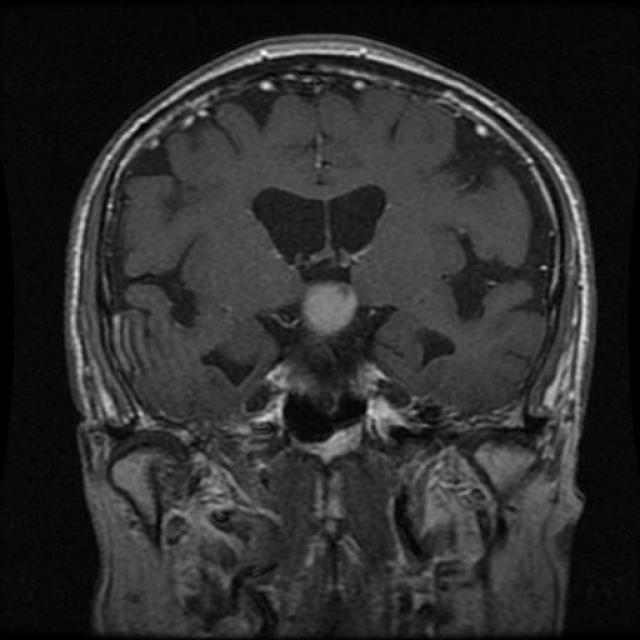Brain-Tumor: (291, 263, 373, 343)
